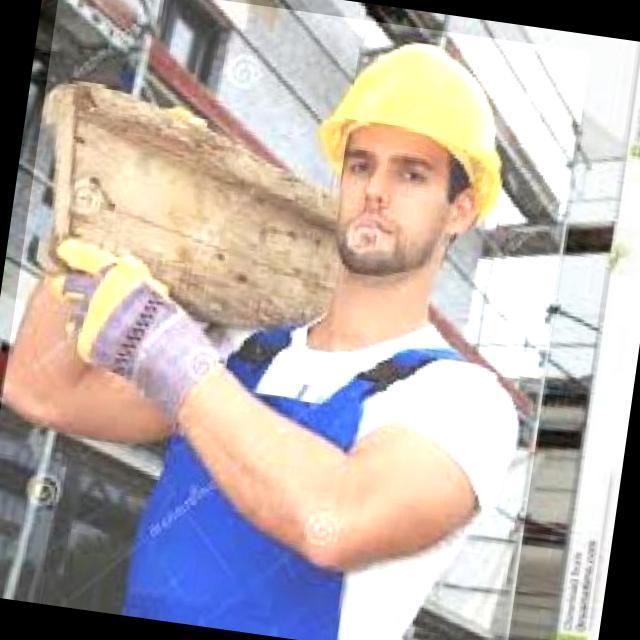Gloves: (31, 234, 242, 433)
Helmet: (309, 28, 520, 231)
Person: (0, 4, 550, 640)
no-vest: (111, 308, 523, 640)
